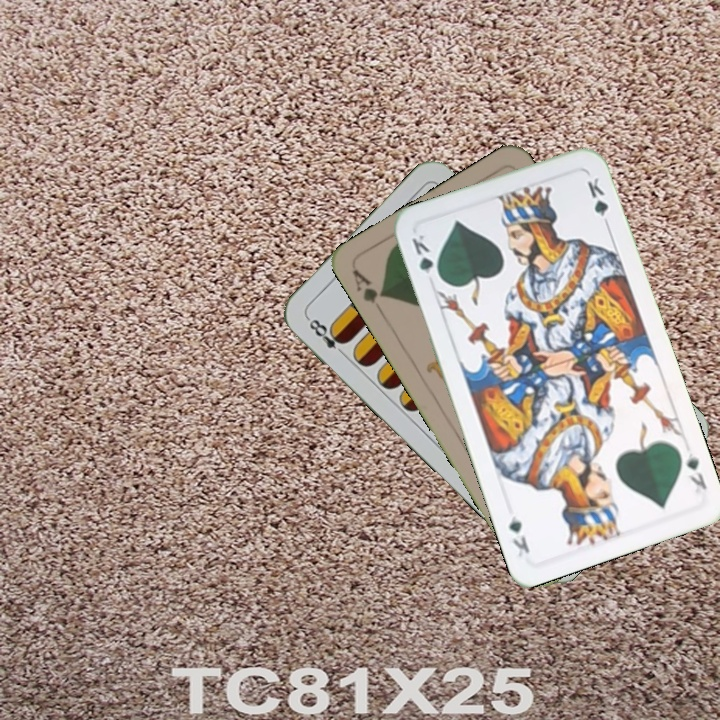E8: (303, 313, 350, 360)
GA: (347, 265, 389, 318)
GK: (408, 230, 444, 284), (682, 448, 709, 493)
